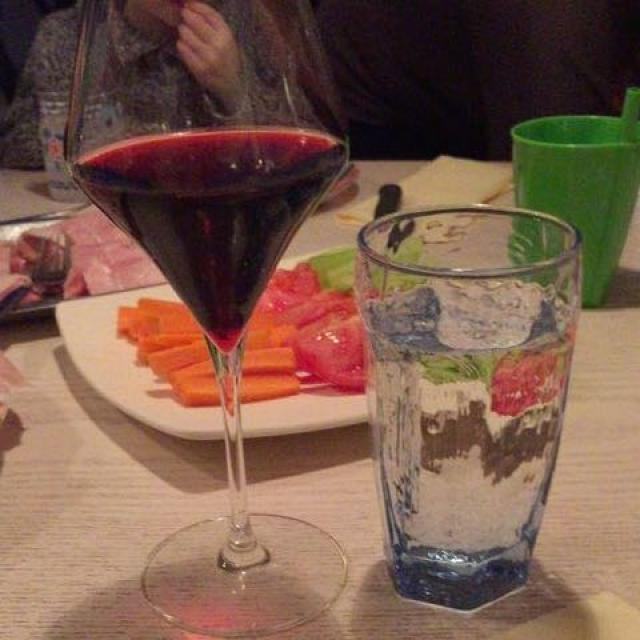water: (354, 274, 581, 552)
wine: (77, 123, 350, 357)
